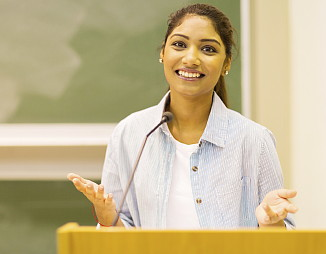Person: (70, 5, 298, 248)
